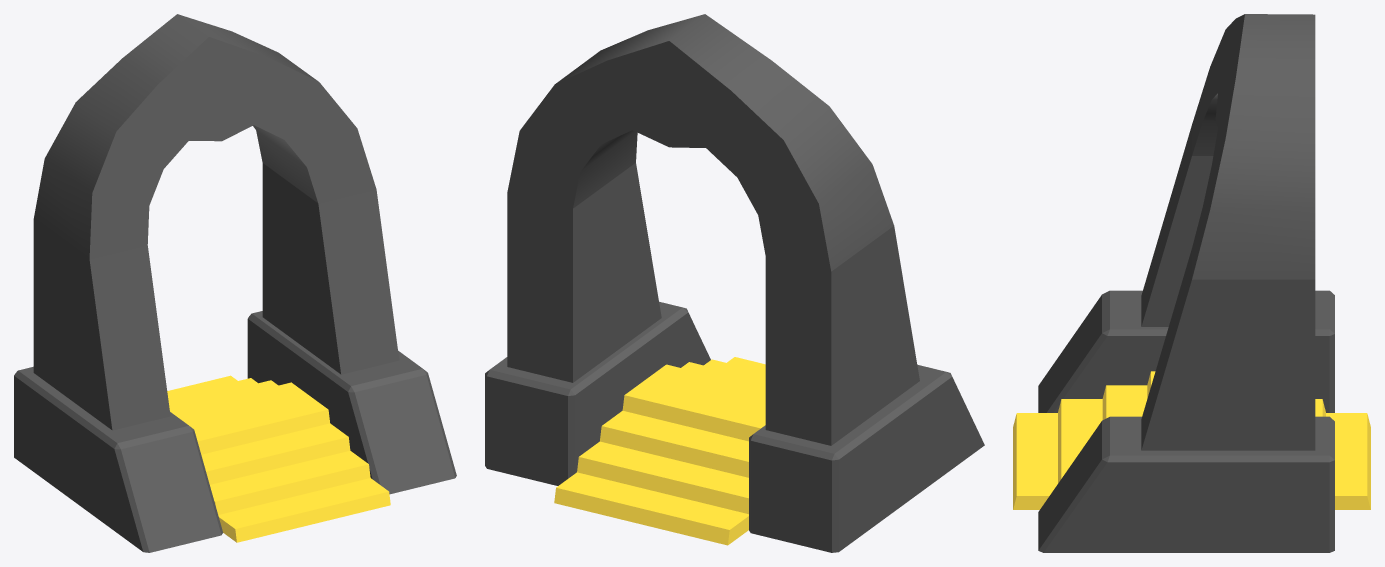
The model's file is mage_stairgate.fbx.
3 views of the same model, side by side, from view 1: azimuth 30°, elevation 25°; view 2: azimuth 150°, elevation 25°; view 3: azimuth 270°, elevation 25° (orthographic). The views are drawn at different scales.
Parts seen in each view (by area): view 1: mage_stairgate, staircase; view 2: mage_stairgate, staircase; view 3: mage_stairgate, staircase.
Part boxes in pixels (box(x1,y1,x2,y2)): mage_stairgate: box(14, 14, 456, 552); staircase: box(167, 375, 390, 542); mage_stairgate: box(485, 14, 984, 552); staircase: box(554, 357, 765, 545); mage_stairgate: box(1038, 14, 1334, 552); staircase: box(1013, 371, 1370, 509).
Bounding box in the file's own units: 3.34 × 4.18 × 2.98.
